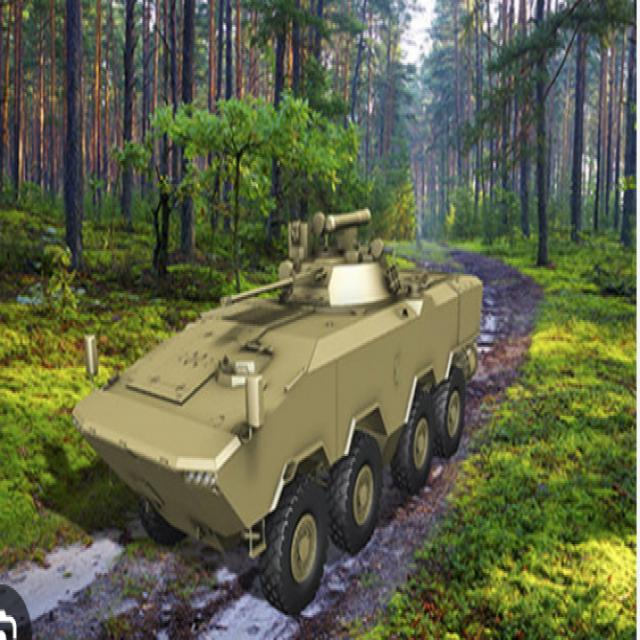MIL_APC: (75, 196, 488, 618)
